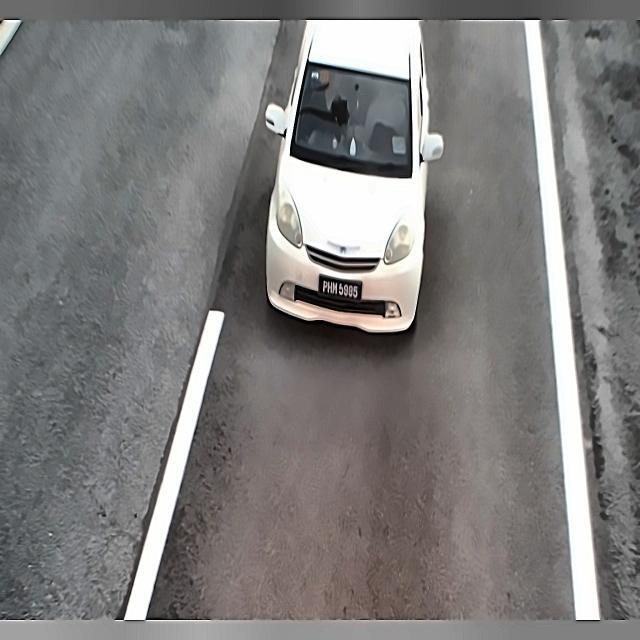car: (308, 265, 368, 309)
